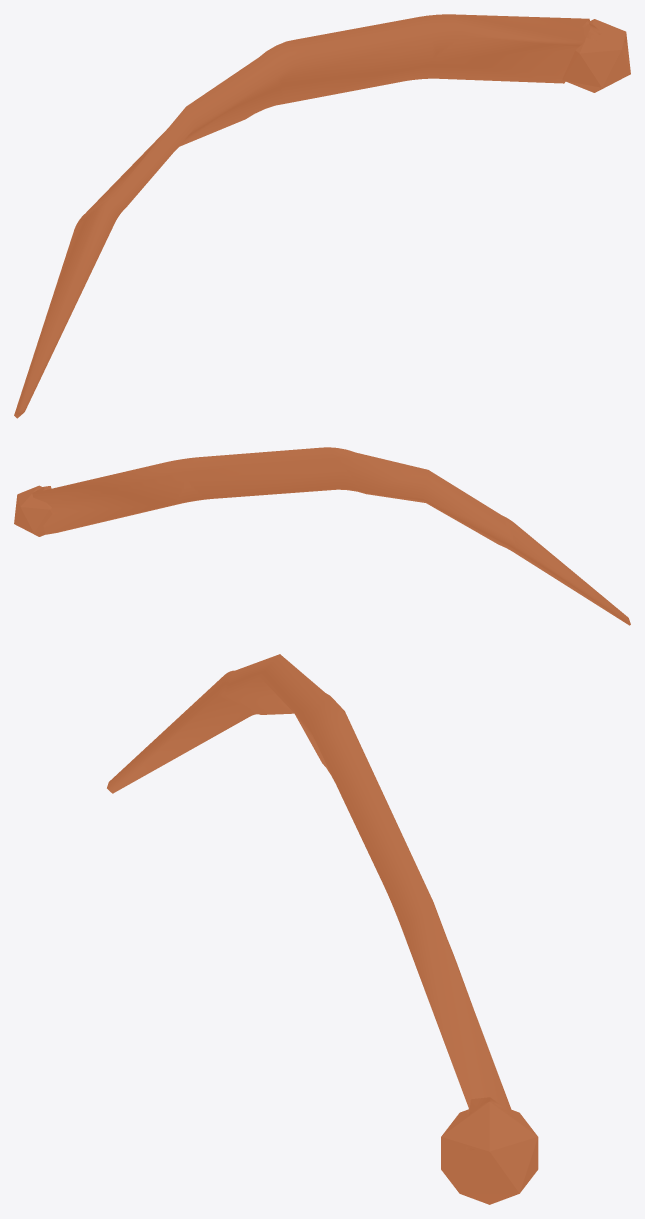
The model's file is eyeLiner.glb.
The picture shows the model from 3 angles, top to bottom: view 1: azimuth 30°, elevation 25°; view 2: azimuth 150°, elevation 25°; view 3: azimuth 270°, elevation 25°; orthographic projection. The views are drawn at different scales.
Visible parts, largest first — view 1: Icosphere; view 2: Icosphere; view 3: Icosphere.
Boxes of the visible parts, x1,y1,x2,y2 form: Icosphere: (14, 14, 630, 418); Icosphere: (14, 447, 630, 625); Icosphere: (107, 654, 538, 1204).
Size of the model in its own units: 13.47 by 3.99 by 4.84.
